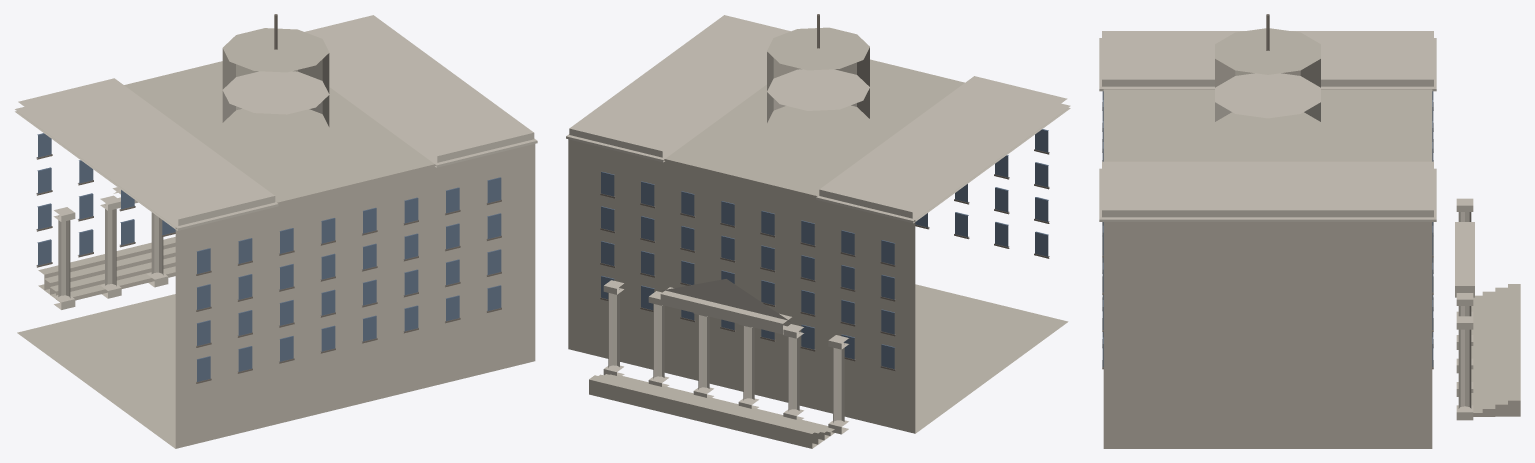
Rendered from gov_cityhall.glb.
3 views of the same model, side by side, from view 1: azimuth 30°, elevation 25°; view 2: azimuth 150°, elevation 25°; view 3: azimuth 270°, elevation 25° (orthographic). The views are drawn at different scales.
Visible parts, largest first — view 1: gov_cityhall; view 2: gov_cityhall; view 3: gov_cityhall.
Part boxes in pixels (left/top/right/bottom): gov_cityhall: left=15, top=14, right=537, bottom=448; gov_cityhall: left=566, top=14, right=1070, bottom=448; gov_cityhall: left=1099, top=14, right=1520, bottom=448.
Bounding box in the file's own units: 34.02 × 30 × 33.35.
